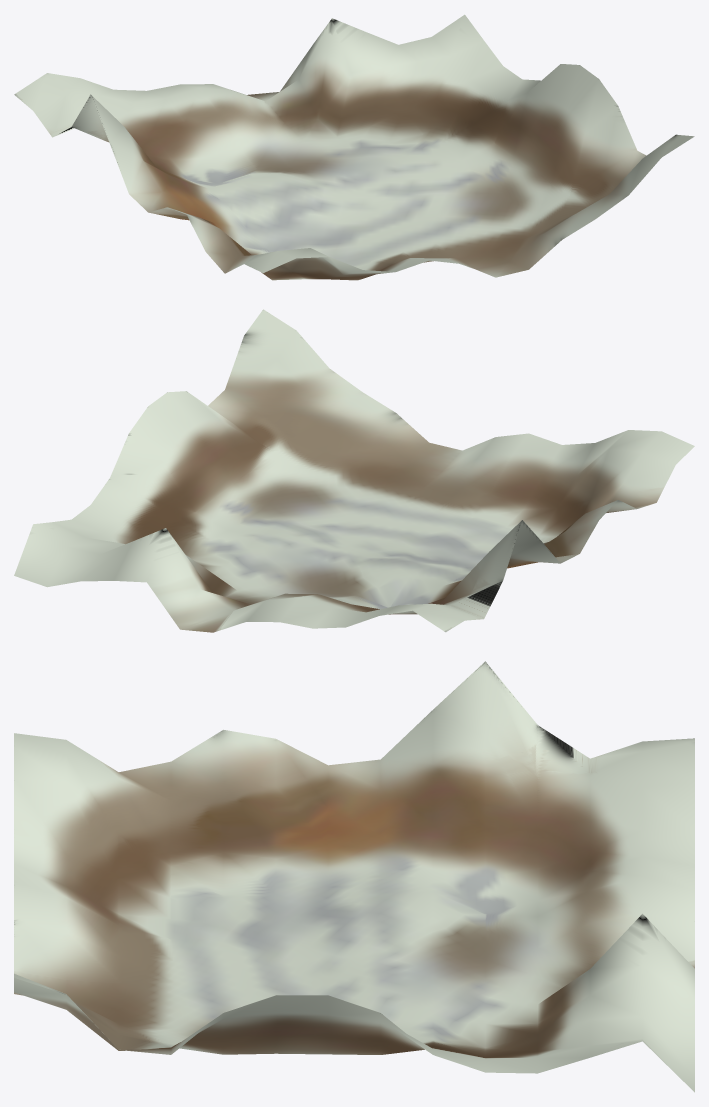
The model's file is iceterrain.fbx.
3 views of the same model, one above another, from view 1: azimuth 30°, elevation 25°; view 2: azimuth 150°, elevation 25°; view 3: azimuth 270°, elevation 25° (orthographic). The views are drawn at different scales.
Parts seen in each view (by area): view 1: Plane; view 2: Plane; view 3: Plane.
Boxes of the visible parts, x1,y1,x2,y2 form: Plane: [14, 14, 694, 280]; Plane: [14, 309, 694, 632]; Plane: [14, 661, 694, 1092].
Size of the model in its own units: 2000 by 554 by 2000.
